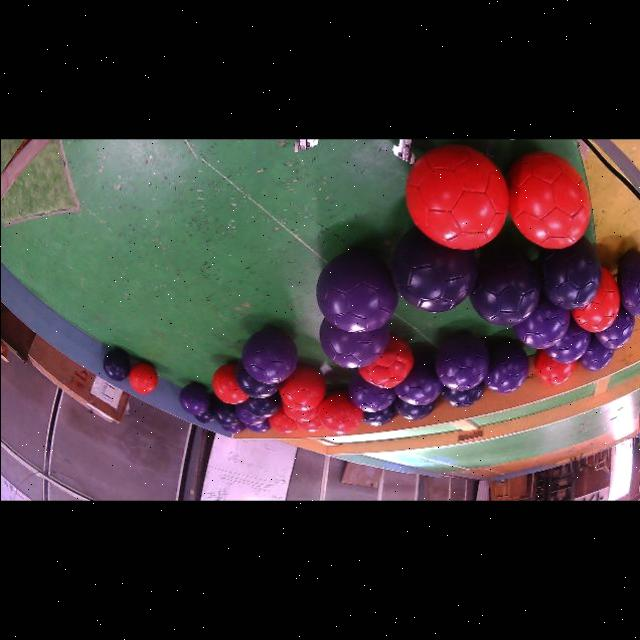B: (390, 227, 477, 311), (469, 247, 540, 325), (539, 235, 600, 308), (234, 359, 281, 396), (441, 380, 485, 407), (393, 395, 435, 419), (243, 391, 281, 417), (102, 347, 130, 380), (212, 398, 239, 425), (363, 403, 396, 425), (194, 395, 214, 422)
P: (316, 249, 398, 331), (318, 317, 389, 368), (512, 293, 570, 347), (434, 332, 488, 389), (242, 327, 296, 383), (482, 340, 529, 393), (394, 354, 442, 404), (545, 315, 590, 363), (347, 371, 395, 412), (594, 304, 634, 347), (617, 249, 640, 316), (578, 333, 613, 370), (179, 383, 209, 414), (234, 402, 266, 424), (246, 418, 269, 432), (222, 420, 246, 433)
R: (405, 142, 507, 248), (506, 150, 590, 247), (570, 266, 619, 331), (357, 334, 413, 388), (278, 364, 325, 410), (317, 389, 363, 433), (534, 347, 575, 385), (212, 363, 248, 403), (129, 361, 157, 393), (267, 407, 297, 432), (281, 400, 317, 420), (295, 415, 322, 430)
